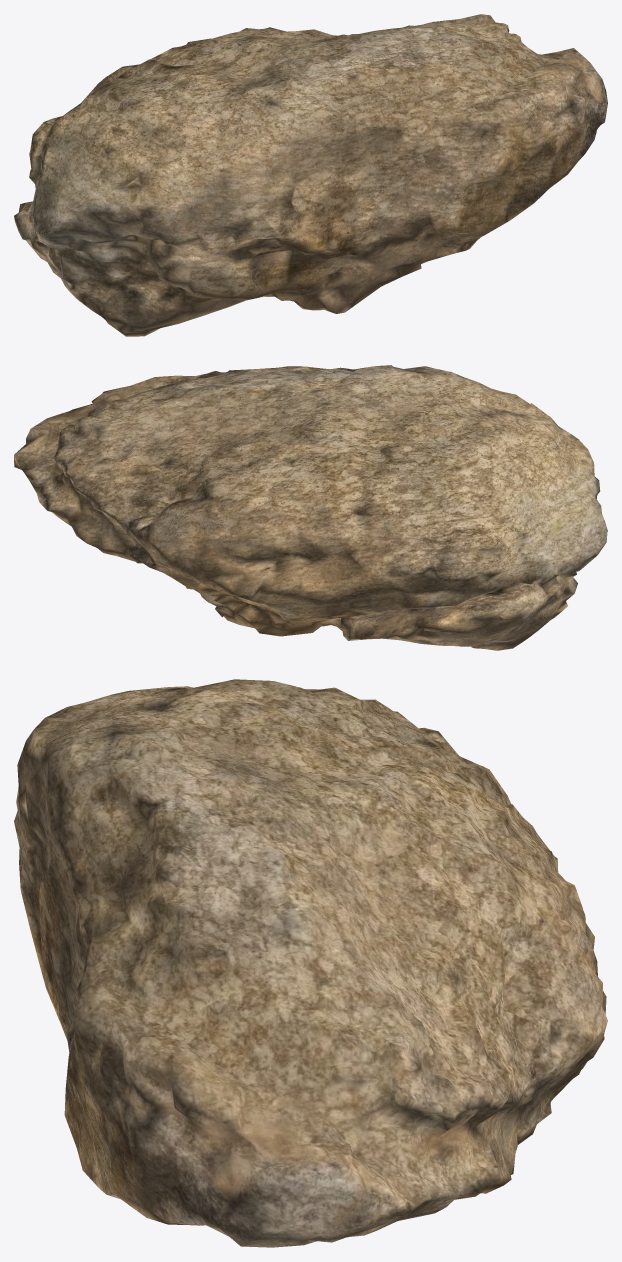
The model's file is p_boulder5.glb.
The picture shows the model from 3 angles, top to bottom: view 1: azimuth 30°, elevation 25°; view 2: azimuth 150°, elevation 25°; view 3: azimuth 270°, elevation 25°; orthographic projection. The views are drawn at different scales.
Visible parts, largest first — view 1: namaqualand_boulder_05; view 2: namaqualand_boulder_05; view 3: namaqualand_boulder_05.
Part boxes in pixels (x1,y1,x2,y2): namaqualand_boulder_05: (14, 14, 607, 336); namaqualand_boulder_05: (14, 365, 607, 650); namaqualand_boulder_05: (14, 679, 607, 1247).
Bounding box in the file's own units: 1.36 × 0.5337 × 0.748.
Materials: 1 (1 with a texture image).
